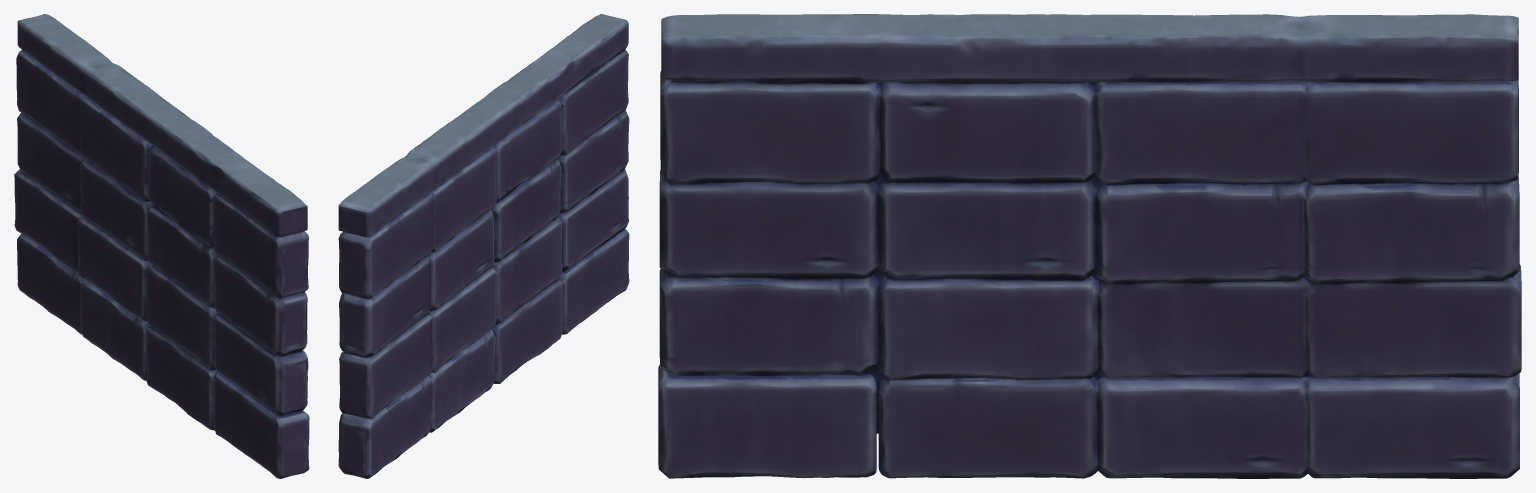
File: Wall3.FBX
3 views of the same model, side by side, from view 1: azimuth 30°, elevation 25°; view 2: azimuth 150°, elevation 25°; view 3: azimuth 270°, elevation 25° (orthographic). The views are drawn at different scales.
Visible parts, largest first — view 1: Wall3_01; view 2: Wall3_01; view 3: Wall3_01.
Part boxes in pixels (x1,y1,x2,y2): Wall3_01: (14,14,309,478); Wall3_01: (338,14,629,478); Wall3_01: (658,14,1521,478).
Bounding box in the file's own units: 0.6172 × 4.49 × 7.91.
Materials: 1 (1 with a texture image).
